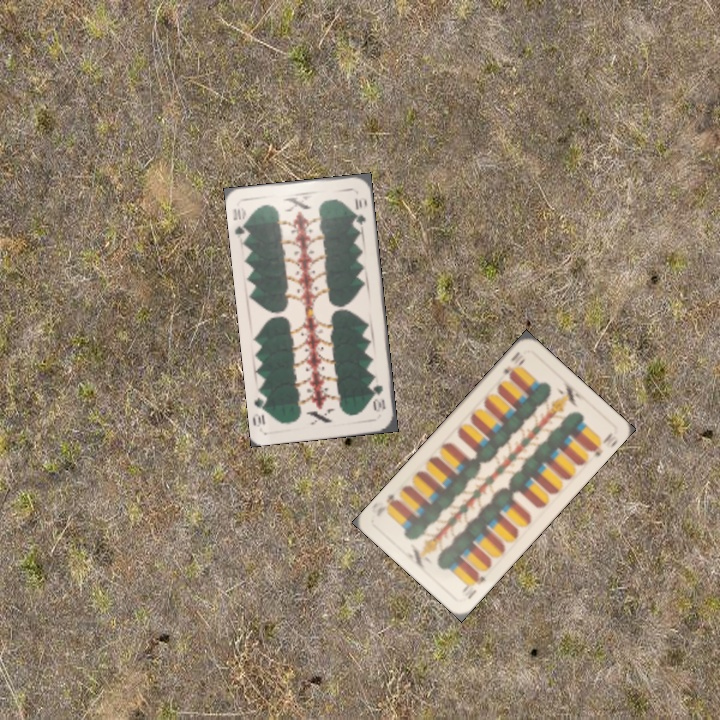E10: (457, 569, 488, 602), (499, 347, 528, 381)
G10: (229, 204, 251, 242), (369, 380, 388, 415)
